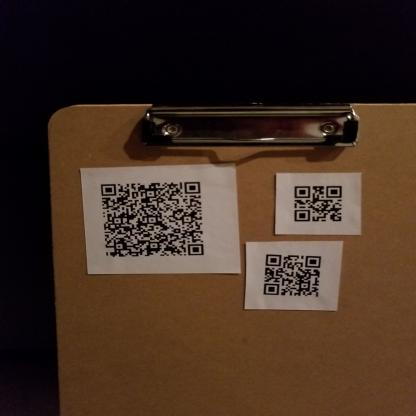qr: (95, 179, 207, 260), (261, 251, 325, 299), (292, 184, 342, 224)
